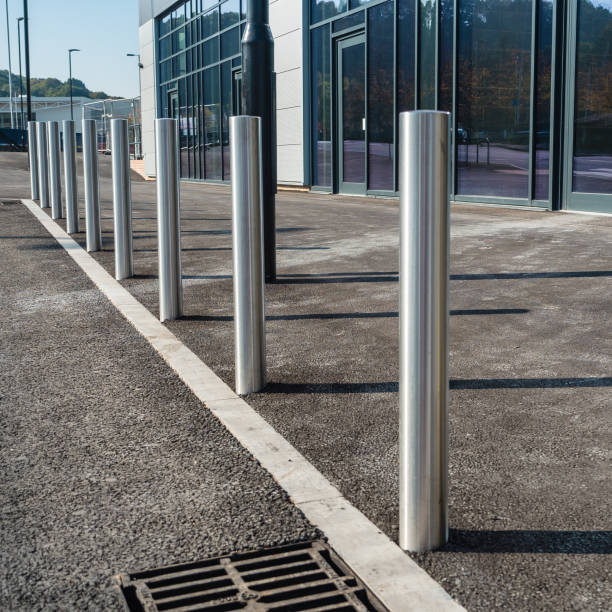bollard: (386, 103, 460, 556), (225, 111, 273, 397), (152, 115, 182, 323), (107, 116, 135, 282), (78, 119, 102, 255)
